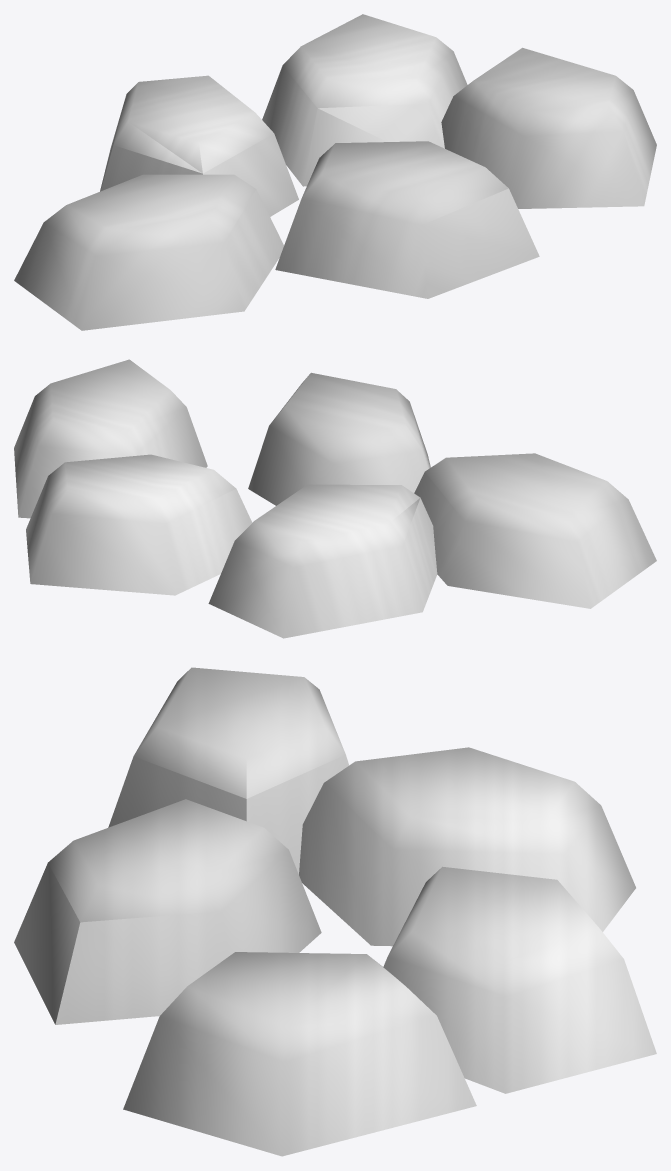
Rendered from item_rm_silver_b.obj.
3 renders of one model, top to bottom at view 1: azimuth 30°, elevation 25°; view 2: azimuth 150°, elevation 25°; view 3: azimuth 270°, elevation 25°, orthographic. The views are drawn at different scales.
Visible parts, largest first — view 1: ingot_1, ingot_2, ingot_3, ingot_5, ingot_4; view 2: ingot_1, ingot_4, ingot_5, ingot_2, ingot_3; view 3: ingot_3, ingot_2, ingot_4, ingot_5, ingot_1.
Part boxes in pixels (x1,y1,x2,y2): ingot_1: [14, 174, 283, 330]; ingot_2: [275, 141, 539, 298]; ingot_3: [441, 47, 656, 208]; ingot_5: [262, 14, 467, 186]; ingot_4: [100, 75, 298, 216]; ingot_1: [414, 453, 656, 608]; ingot_4: [208, 484, 437, 638]; ingot_5: [26, 454, 252, 595]; ingot_2: [248, 372, 430, 505]; ingot_3: [14, 359, 207, 518]; ingot_3: [123, 952, 476, 1156]; ingot_2: [14, 799, 321, 1024]; ingot_4: [299, 747, 635, 946]; ingot_5: [383, 866, 656, 1093]; ingot_1: [108, 667, 349, 874].
Bounding box in the file's own units: 0.805 × 0.1077 × 0.5414.
